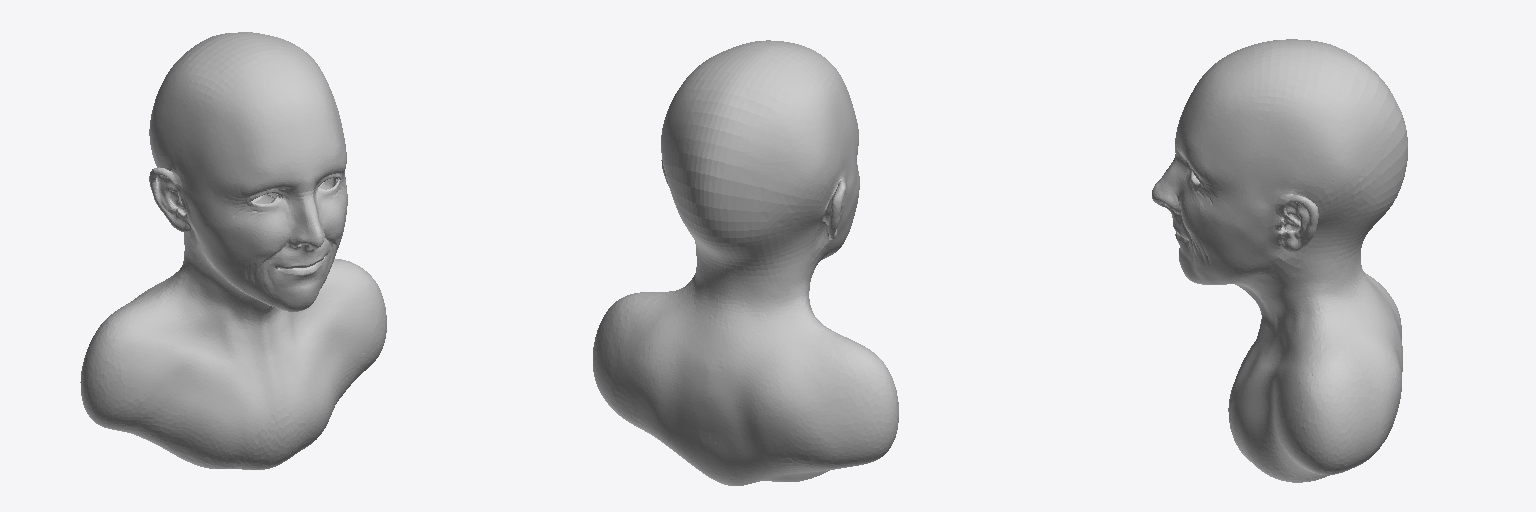
The model's file is Nurse Head OBJ v1.OBJ.
3 renders of one model, left to right at view 1: azimuth 30°, elevation 25°; view 2: azimuth 150°, elevation 25°; view 3: azimuth 270°, elevation 25°, orthographic.
Visible parts, largest first — view 1: Group13695; view 2: Group13695; view 3: Group13695.
Part boxes in pixels (left/top/right/bottom): Group13695: left=80, top=32, right=386, bottom=469; Group13695: left=593, top=40, right=898, bottom=485; Group13695: left=1152, top=39, right=1407, bottom=482.
Size of the model in its own units: 2.13 by 2.85 by 1.59.